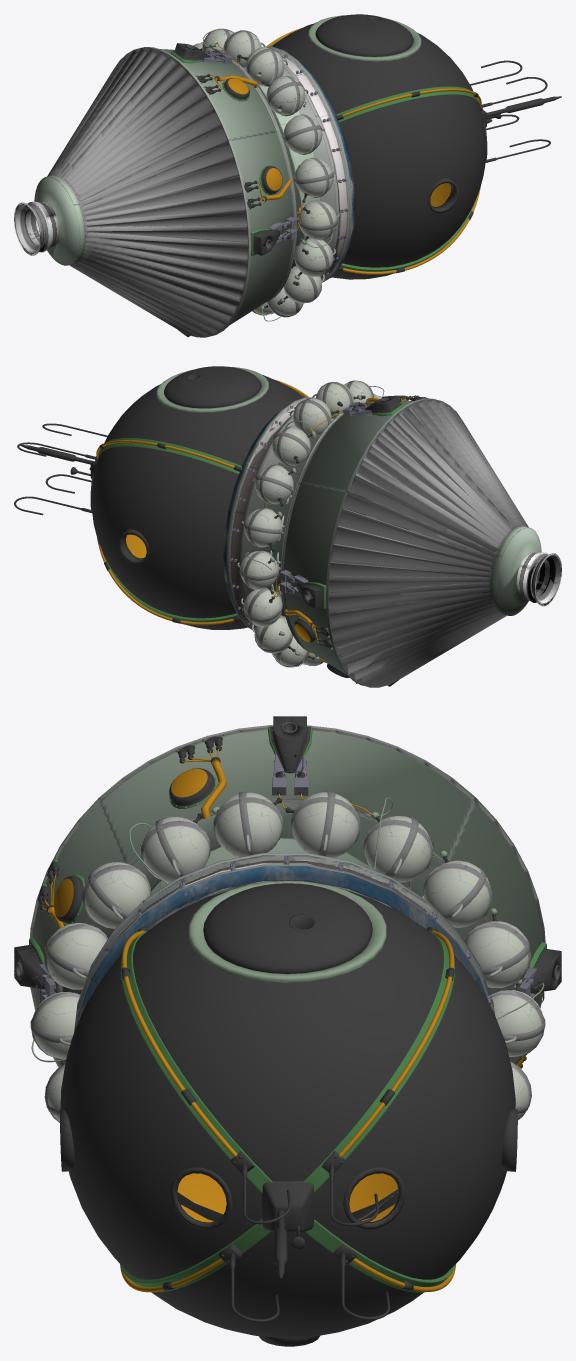
File: Vostok H-res.fbx
3 renders of one model, top to bottom at view 1: azimuth 30°, elevation 25°; view 2: azimuth 150°, elevation 25°; view 3: azimuth 270°, elevation 25°, orthographic. The views are drawn at different scales.
Visible parts, largest first — view 1: Empty_Mesh_2, Empty_Mesh, Empty_Mesh_3, Empty_Mesh_1, Empty_Mesh_4; view 2: Empty_Mesh_2, Empty_Mesh, Empty_Mesh_1, Empty_Mesh_3, Empty_Mesh_4; view 3: Empty_Mesh, Empty_Mesh_2, Empty_Mesh_1, Empty_Mesh_3, Empty_Mesh_4.
Boxes of the visible parts, box(x1,y1,x2,y2) form: Empty_Mesh_2: box(14, 29, 355, 337); Empty_Mesh: box(272, 14, 487, 279); Empty_Mesh_3: box(170, 28, 332, 336); Empty_Mesh_1: box(266, 28, 561, 274); Empty_Mesh_4: box(172, 28, 331, 336); Empty_Mesh_2: box(223, 380, 561, 687); Empty_Mesh: box(90, 366, 303, 629); Empty_Mesh_1: box(14, 379, 308, 625); Empty_Mesh_3: box(245, 386, 429, 686); Empty_Mesh_4: box(244, 386, 426, 686); Empty_Mesh: box(60, 881, 517, 1346); Empty_Mesh_2: box(29, 725, 545, 1221); Empty_Mesh_1: box(120, 927, 455, 1322); Empty_Mesh_3: box(14, 716, 561, 1068); Empty_Mesh_4: box(14, 716, 561, 1067).
Bounding box in the file's own units: 11.68 × 6.01 × 6.01.
